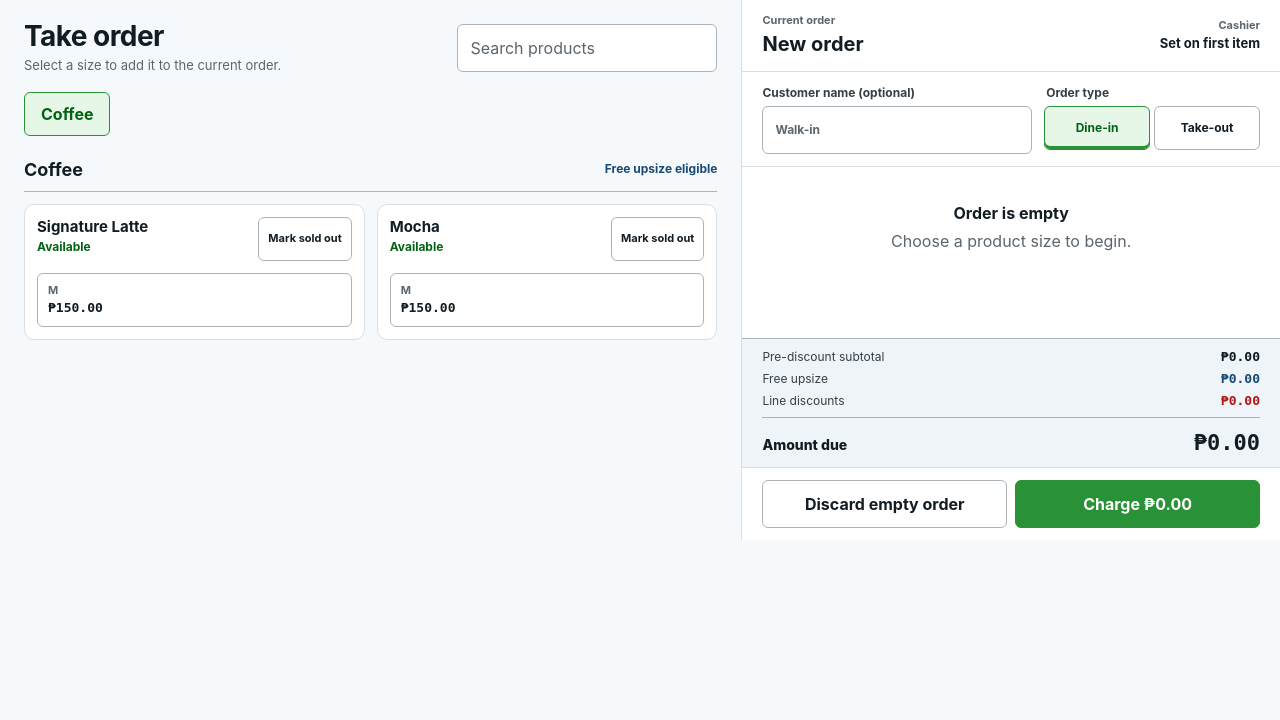
it: Take Order workspace › changes availability from the product card and shows the returned state
Click the button "Mark sold out" next to "Signature Latte". click: point(305, 239)
box: top-left (258, 217), bottom-right (352, 261)
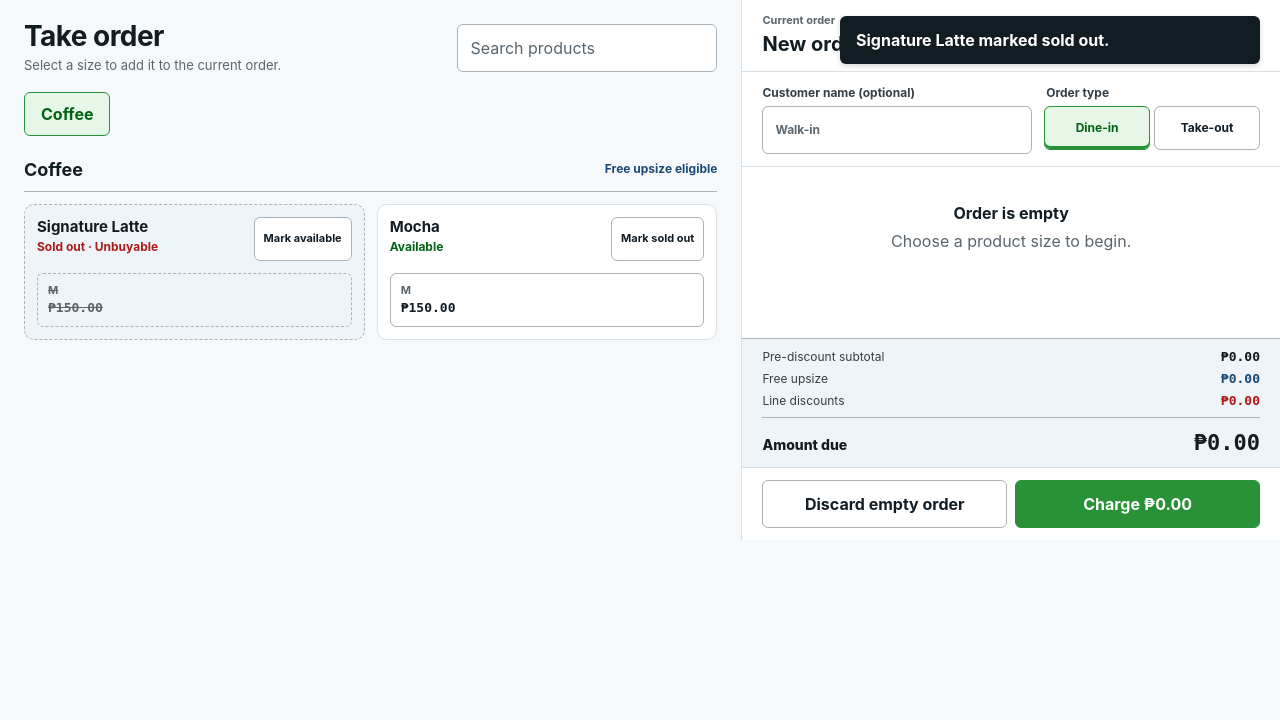
Check: the text "Sold out · Unbuyable" is shown, box top-left (37, 239), bottom-right (158, 254)
Check: the button "M ₱150.00" below "Sold out · Unbuyable" is disabled, box top-left (37, 273), bottom-right (352, 327)
